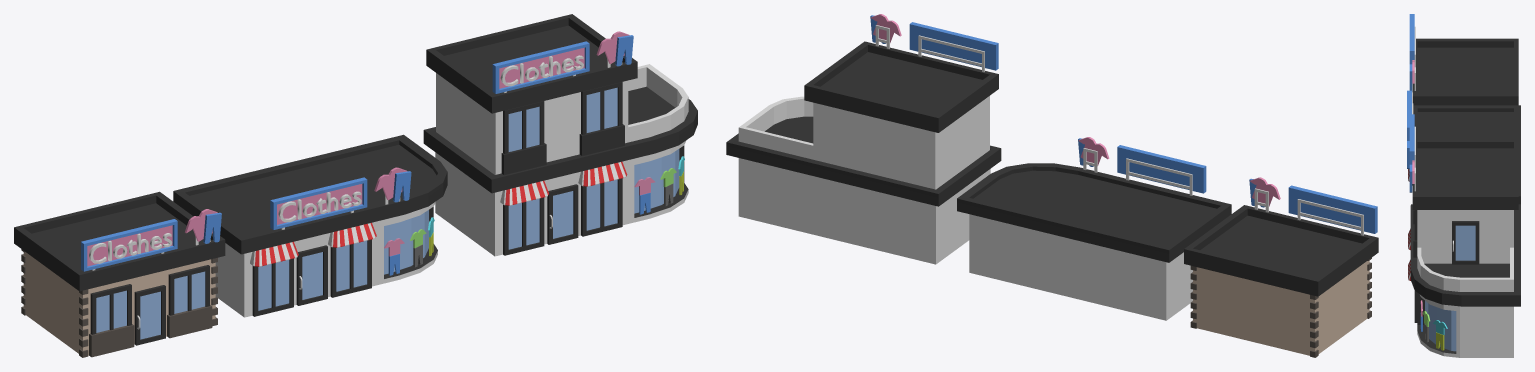
The model's file is clothing.fbx.
3 views of the same model, side by side, from view 1: azimuth 30°, elevation 25°; view 2: azimuth 150°, elevation 25°; view 3: azimuth 270°, elevation 25° (orthographic). The views are drawn at different scales.
Parts seen in each view (by area): view 1: clothing_t3, clothing_t2, clothing_t1; view 2: clothing_t3, clothing_t2, clothing_t1; view 3: clothing_t3, clothing_t1, clothing_t2.
Boxes of the visible parts, left/top/right/bottom form: clothing_t3: left=423, top=14, right=697, bottom=256; clothing_t2: left=173, top=134, right=447, bottom=317; clothing_t1: left=14, top=191, right=225, bottom=357; clothing_t3: left=726, top=14, right=1001, bottom=264; clothing_t2: left=957, top=137, right=1231, bottom=320; clothing_t1: left=1184, top=177, right=1378, bottom=357; clothing_t3: left=1408, top=114, right=1520, bottom=357; clothing_t1: left=1409, top=14, right=1518, bottom=105; clothing_t2: left=1407, top=90, right=1520, bottom=204.
Size of the model in its own units: 4356 by 1275 by 827.
